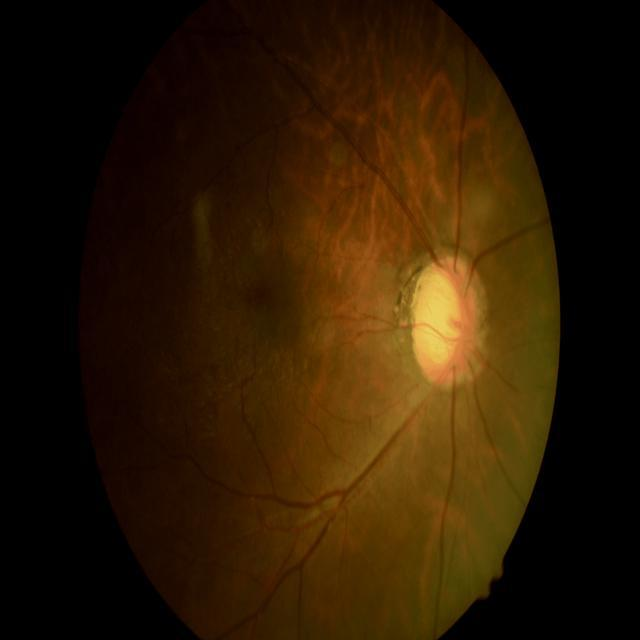cup: (418, 266, 466, 367)
disk: (409, 262, 474, 388)
